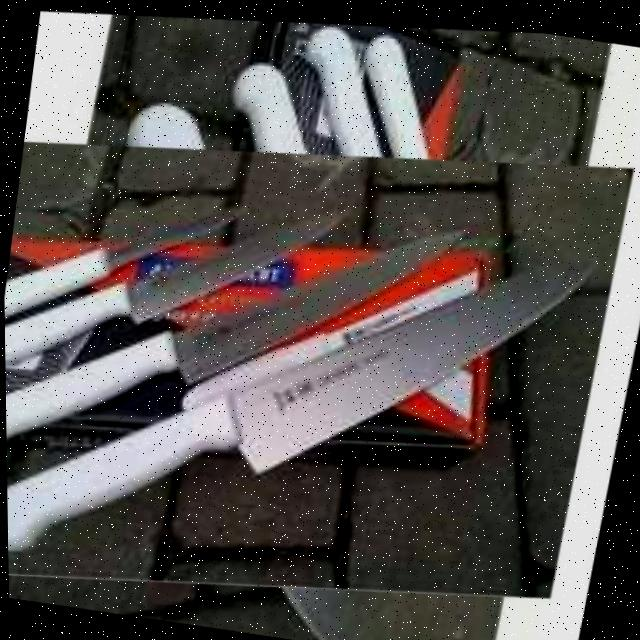knife: (0, 38, 605, 640)
